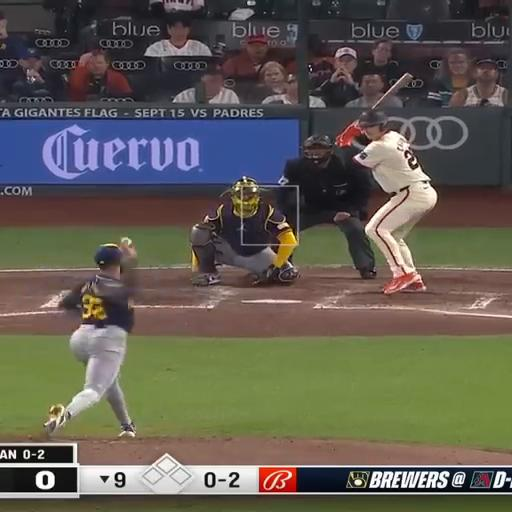bat: (370, 73, 412, 109), (371, 73, 412, 109)
